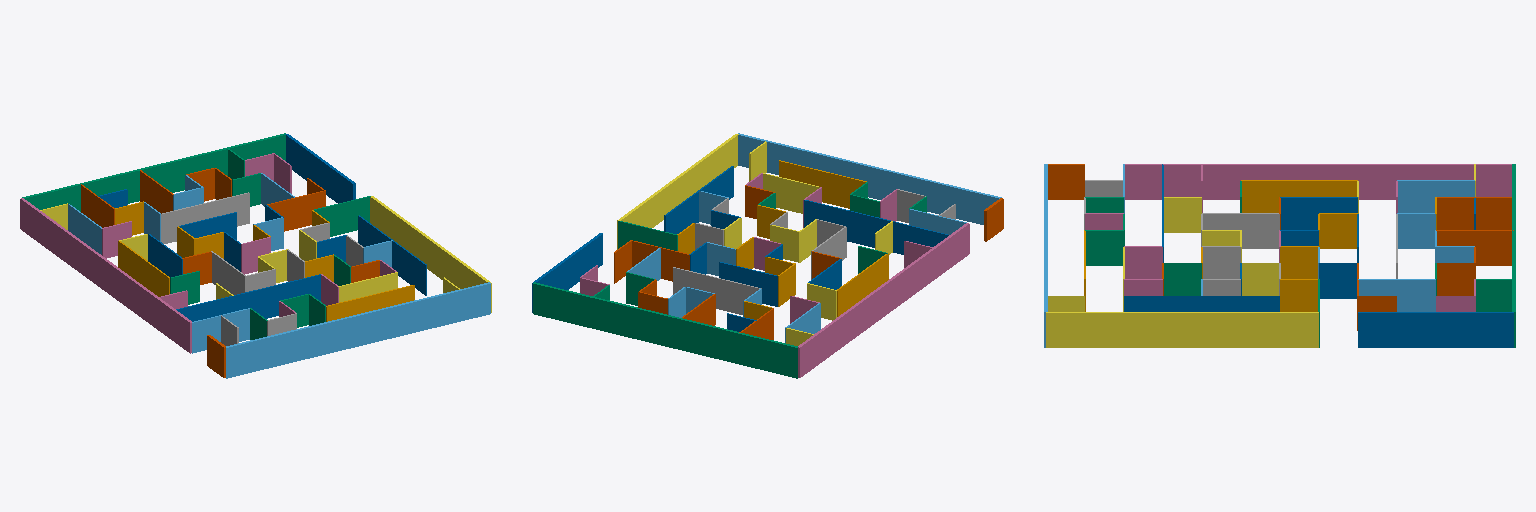
--- What the picture shows (computed from the rendered views, not written in the file) ---
The picture shows the robot from 3 angles, left to right: view 1: azimuth 30°, elevation 25°; view 2: azimuth 150°, elevation 25°; view 3: azimuth 270°, elevation 25°; orthographic projection.
Model maze with 71 links and 70 joints (70 fixed), rooted at maze_link, posed every joint at zero.
Links seen in each view (by area): view 1: wallEast_link, wallSouth2_link, wallWest_link, wallNorth1_link, w40_link, wallNorth2_link, w59_link, w32_link, w36_link, w4_link, w54_link, w37_link (+22 smaller); view 2: wallWest_link, wallSouth2_link, wallEast_link, wallNorth1_link, w40_link, w59_link, w36_link, wallNorth2_link, w32_link, w4_link, w39_link, w56_link (+21 smaller); view 3: wallNorth1_link, wallSouth2_link, wallNorth2_link, w4_link, w32_link, w9_link, w11_link, w29_link, w17_link, w5_link, w8_link, w14_link (+26 smaller).
Boxes of the visible links, x1,y1,x2,y2 form: wallEast_link: (226,282,490,378); wallSouth2_link: (20,198,191,353); wallWest_link: (22,133,285,211); wallNorth1_link: (370,196,491,312); w40_link: (176,274,320,321); wallNorth2_link: (285,134,355,203); w59_link: (161,192,249,243); w32_link: (358,215,426,295); w36_link: (326,285,414,321); w4_link: (118,241,169,296); w54_link: (314,196,370,236); w37_link: (192,308,249,353); wallWest_link: (533,282,797,378); wallSouth2_link: (798,223,969,377); wallEast_link: (738,133,1001,224); wallNorth1_link: (617,134,738,249); w40_link: (804,200,948,254); w59_link: (673,267,761,314); w36_link: (779,160,866,208); wallNorth2_link: (532,233,602,312); w32_link: (664,166,733,233); w4_link: (837,253,888,316); w39_link: (763,173,819,213); w56_link: (719,262,777,306); wallNorth1_link: (1046,312,1318,347); wallSouth2_link: (1125,164,1511,199); wallNorth2_link: (1358,312,1513,347); w4_link: (1241,180,1357,212); w32_link: (1124,296,1279,311); w9_link: (1437,197,1511,229); w11_link: (1202,213,1279,248); w29_link: (1358,279,1435,311); w17_link: (1436,230,1513,265); w5_link: (1397,180,1474,212); w8_link: (1280,197,1357,229); w14_link: (1085,230,1123,265).
Size in the robot's own frame: 9.1 by 12.1 by 1 metres.
Geometry: primitives only (box / cylinder / sphere), no mesh files.

robot.urdf — maze:
<?xml version="1.0" ?>
<!-- =================================================================================== -->
<!-- |    This document was autogenerated by xacro from /local/dev_hpp/src/iai_maps/build-rel/room/maze.xacro | -->
<!-- |    EDITING THIS FILE BY HAND IS NOT RECOMMENDED                                 | -->
<!-- =================================================================================== -->
<robot name="maze" xmlns:controller="http://playerstage.sourceforge.net/gazebo/xmlschema/#controller" xmlns:interface="http://playerstage.sourceforge.net/gazebo/xmlschema/#interface" xmlns:sensor="http://playerstage.sourceforge.net/gazebo/xmlschema/#sensor" xmlns:xacro="http://www.ros.org/wiki/xacro">
  <!-- Little helper macro to define the inertia matrix needed for links. -->
  <!-- Length is along the y-axis. -->
  <!--<macro name="handle" params="name position link clearance">
    <handle name="${name}" clearance="${clearance}">
      <position>${position}</position>
      <link name="${link}" />
    </handle>
  </macro>-->
  <!--  <glasses name="glasses2" parent="room" xyz="-1.1 4.3 0.73" rpy="0 0 0"/>-->
  <link name="maze_link">
    <!--<sphere_inertia radius="0.001" mass="1"/>-->
  </link>
  <joint name="wallEast_joint" type="fixed">
    <origin rpy="0 0 0" xyz="4.5 0 0.5"/>
    <parent link="maze_link"/>
    <child link="wallEast_link"/>
  </joint>
  <link name="wallEast_link">
    <visual>
      <origin rpy="0 0 0" xyz="0 0 0"/>
      <geometry>
        <box size="9 0.1 1"/>
      </geometry>
    </visual>
    <collision>
      <origin rpy="0 0 0" xyz="0 0 0"/>
      <geometry>
        <box size="9 0.1 1"/>
      </geometry>
    </collision>
    <inertial>
      <mass value="1000"/>
      <inertia ixx="1.0" ixy="0.0" ixz="0.0" iyy="1.0" iyz="0.0" izz="1.0"/>
    </inertial>
  </link>
  <gazebo reference="wallEast_link">
    <static>true</static>
    <material>Gazebo/White</material>
  </gazebo>
  <joint name="wallWest_joint" type="fixed">
    <origin rpy="0 0 0" xyz="4.5 12 0.5"/>
    <parent link="maze_link"/>
    <child link="wallWest_link"/>
  </joint>
  <link name="wallWest_link">
    <visual>
      <origin rpy="0 0 0" xyz="0 0 0"/>
      <geometry>
        <box size="9 0.1 1"/>
      </geometry>
    </visual>
    <collision>
      <origin rpy="0 0 0" xyz="0 0 0"/>
      <geometry>
        <box size="9 0.1 1"/>
      </geometry>
    </collision>
    <inertial>
      <mass value="1000"/>
      <inertia ixx="1.0" ixy="0.0" ixz="0.0" iyy="1.0" iyz="0.0" izz="1.0"/>
    </inertial>
  </link>
  <gazebo reference="wallWest_link">
    <static>true</static>
    <material>Gazebo/White</material>
  </gazebo>
  <joint name="wallNorth1_joint" type="fixed">
    <origin rpy="0 0 0" xyz="9 3.5 0.5"/>
    <parent link="maze_link"/>
    <child link="wallNorth1_link"/>
  </joint>
  <link name="wallNorth1_link">
    <visual>
      <origin rpy="0 0 0" xyz="0 0 0"/>
      <geometry>
        <box size="0.1 7 1"/>
      </geometry>
    </visual>
    <collision>
      <origin rpy="0 0 0" xyz="0 0 0"/>
      <geometry>
        <box size="0.1 7 1"/>
      </geometry>
    </collision>
    <inertial>
      <mass value="1000"/>
      <inertia ixx="1.0" ixy="0.0" ixz="0.0" iyy="1.0" iyz="0.0" izz="1.0"/>
    </inertial>
  </link>
  <gazebo reference="wallNorth1_link">
    <static>true</static>
    <material>Gazebo/White</material>
  </gazebo>
  <joint name="wallNorth2_joint" type="fixed">
    <origin rpy="0 0 0" xyz="9 10 0.5"/>
    <parent link="maze_link"/>
    <child link="wallNorth2_link"/>
  </joint>
  <link name="wallNorth2_link">
    <visual>
      <origin rpy="0 0 0" xyz="0 0 0"/>
      <geometry>
        <box size="0.1 4 1"/>
      </geometry>
    </visual>
    <collision>
      <origin rpy="0 0 0" xyz="0 0 0"/>
      <geometry>
        <box size="0.1 4 1"/>
      </geometry>
    </collision>
    <inertial>
      <mass value="1000"/>
      <inertia ixx="1.0" ixy="0.0" ixz="0.0" iyy="1.0" iyz="0.0" izz="1.0"/>
    </inertial>
  </link>
  <gazebo reference="wallNorth2_link">
    <static>true</static>
    <material>Gazebo/White</material>
  </gazebo>
  <joint name="wallSouth1_joint" type="fixed">
    <origin rpy="0 0 0" xyz="0 0.5 0.5"/>
    <parent link="maze_link"/>
    <child link="wallSouth1_link"/>
  </joint>
  <link name="wallSouth1_link">
    <visual>
      <origin rpy="0 0 0" xyz="0 0 0"/>
      <geometry>
        <box size="0.1 1 1"/>
      </geometry>
    </visual>
    <collision>
      <origin rpy="0 0 0" xyz="0 0 0"/>
      <geometry>
        <box size="0.1 1 1"/>
      </geometry>
    </collision>
    <inertial>
      <mass value="1000"/>
      <inertia ixx="1.0" ixy="0.0" ixz="0.0" iyy="1.0" iyz="0.0" izz="1.0"/>
    </inertial>
  </link>
  <gazebo reference="wallSouth1_link">
    <static>true</static>
    <material>Gazebo/White</material>
  </gazebo>
  <joint name="wallSouth2_joint" type="fixed">
    <origin rpy="0 0 0" xyz="0 7 0.5"/>
    <parent link="maze_link"/>
    <child link="wallSouth2_link"/>
  </joint>
  <link name="wallSouth2_link">
    <visual>
      <origin rpy="0 0 0" xyz="0 0 0"/>
      <geometry>
        <box size="0.1 10 1"/>
      </geometry>
    </visual>
    <collision>
      <origin rpy="0 0 0" xyz="0 0 0"/>
      <geometry>
        <box size="0.1 10 1"/>
      </geometry>
    </collision>
    <inertial>
      <mass value="1000"/>
      <inertia ixx="1.0" ixy="0.0" ixz="0.0" iyy="1.0" iyz="0.0" izz="1.0"/>
    </inertial>
  </link>
  <gazebo reference="wallSouth2_link">
    <static>true</static>
    <material>Gazebo/White</material>
  </gazebo>
  <!-- inside horizontal (south to north, east to west) -->
  <joint name="w3_joint" type="fixed">
    <origin rpy="0 0 0" xyz="1 1.5 0.5"/>
    <parent link="maze_link"/>
    <child link="w3_link"/>
  </joint>
  <link name="w3_link">
    <visual>
      <origin rpy="0 0 0" xyz="0 0 0"/>
      <geometry>
        <box size="0.05 1 1"/>
      </geometry>
    </visual>
    <collision>
      <origin rpy="0 0 0" xyz="0 0 0"/>
      <geometry>
        <box size="0.05 1 1"/>
      </geometry>
    </collision>
    <inertial>
      <mass value="1000"/>
      <inertia ixx="1.0" ixy="0.0" ixz="0.0" iyy="1.0" iyz="0.0" izz="1.0"/>
    </inertial>
  </link>
  <gazebo reference="w3_link">
    <static>true</static>
    <material>Gazebo/White</material>
  </gazebo>
  <joint name="w4_joint" type="fixed">
    <origin rpy="0 0 0" xyz="1 6.5 0.5"/>
    <parent link="maze_link"/>
    <child link="w4_link"/>
  </joint>
  <link name="w4_link">
    <visual>
      <origin rpy="0 0 0" xyz="0 0 0"/>
      <geometry>
        <box size="0.05 3 1"/>
      </geometry>
    </visual>
    <collision>
      <origin rpy="0 0 0" xyz="0 0 0"/>
      <geometry>
        <box size="0.05 3 1"/>
      </geometry>
    </collision>
    <inertial>
      <mass value="1000"/>
      <inertia ixx="1.0" ixy="0.0" ixz="0.0" iyy="1.0" iyz="0.0" izz="1.0"/>
    </inertial>
  </link>
  <gazebo reference="w4_link">
    <static>true</static>
    <material>Gazebo/White</material>
  </gazebo>
  <joint name="w5_joint" type="fixed">
    <origin rpy="0 0 0" xyz="1 10 0.5"/>
    <parent link="maze_link"/>
    <child link="w5_link"/>
  </joint>
  <link name="w5_link">
    <visual>
      <origin rpy="0 0 0" xyz="0 0 0"/>
      <geometry>
        <box size="0.05 2 1"/>
      </geometry>
    </visual>
    <collision>
      <origin rpy="0 0 0" xyz="0 0 0"/>
      <geometry>
        <box size="0.05 2 1"/>
      </geometry>
    </collision>
    <inertial>
      <mass value="1000"/>
      <inertia ixx="1.0" ixy="0.0" ixz="0.0" iyy="1.0" iyz="0.0" izz="1.0"/>
    </inertial>
  </link>
  <gazebo reference="w5_link">
    <static>true</static>
    <material>Gazebo/White</material>
  </gazebo>
  <joint name="w6_joint" type="fixed">
    <origin rpy="0 0 0" xyz="2 1.5 0.5"/>
    <parent link="maze_link"/>
    <child link="w6_link"/>
  </joint>
  <link name="w6_link">
    <visual>
      <origin rpy="0 0 0" xyz="0 0 0"/>
      <geometry>
        <box size="0.05 1 1"/>
      </geometry>
    </visual>
    <collision>
      <origin rpy="0 0 0" xyz="0 0 0"/>
      <geometry>
        <box size="0.05 1 1"/>
      </geometry>
    </collision>
    <inertial>
      <mass value="1000"/>
      <inertia ixx="1.0" ixy="0.0" ixz="0.0" iyy="1.0" iyz="0.0" izz="1.0"/>
    </inertial>
  </link>
  <gazebo reference="w6_link">
    <static>true</static>
    <material>Gazebo/White</material>
  </gazebo>
  <joint name="w7_joint" type="fixed">
    <origin rpy="0 0 0" xyz="2 3.5 0.5"/>
    <parent link="maze_link"/>
    <child link="w7_link"/>
  </joint>
  <link name="w7_link">
    <visual>
      <origin rpy="0 0 0" xyz="0 0 0"/>
      <geometry>
        <box size="0.05 1 1"/>
      </geometry>
    </visual>
    <collision>
      <origin rpy="0 0 0" xyz="0 0 0"/>
      <geometry>
        <box size="0.05 1 1"/>
      </geometry>
    </collision>
    <inertial>
      <mass value="1000"/>
      <inertia ixx="1.0" ixy="0.0" ixz="0.0" iyy="1.0" iyz="0.0" izz="1.0"/>
    </inertial>
  </link>
  <gazebo reference="w7_link">
    <static>true</static>
    <material>Gazebo/White</material>
  </gazebo>
  <joint name="w8_joint" type="fixed">
    <origin rpy="0 0 0" xyz="2 7 0.5"/>
    <parent link="maze_link"/>
    <child link="w8_link"/>
  </joint>
  <link name="w8_link">
    <visual>
      <origin rpy="0 0 0" xyz="0 0 0"/>
      <geometry>
        <box size="0.05 2 1"/>
      </geometry>
    </visual>
    <collision>
      <origin rpy="0 0 0" xyz="0 0 0"/>
      <geometry>
        <box size="0.05 2 1"/>
      </geometry>
    </collision>
    <inertial>
      <mass value="1000"/>
      <inertia ixx="1.0" ixy="0.0" ixz="0.0" iyy="1.0" iyz="0.0" izz="1.0"/>
    </inertial>
  </link>
  <gazebo reference="w8_link">
    <static>true</static>
    <material>Gazebo/White</material>
  </gazebo>
  <joint name="w9_joint" type="fixed">
    <origin rpy="0 0 0" xyz="2 11 0.5"/>
    <parent link="maze_link"/>
    <child link="w9_link"/>
  </joint>
  <link name="w9_link">
    <visual>
      <origin rpy="0 0 0" xyz="0 0 0"/>
      <geometry>
        <box size="0.05 2 1"/>
      </geometry>
    </visual>
    <collision>
      <origin rpy="0 0 0" xyz="0 0 0"/>
      <geometry>
        <box size="0.05 2 1"/>
      </geometry>
    </collision>
    <inertial>
      <mass value="1000"/>
      <inertia ixx="1.0" ixy="0.0" ixz="0.0" iyy="1.0" iyz="0.0" izz="1.0"/>
    </inertial>
  </link>
  <gazebo reference="w9_link">
    <static>true</static>
    <material>Gazebo/White</material>
  </gazebo>
  <joint name="w10_joint" type="fixed">
    <origin rpy="0 0 0" xyz="3 1.5 0.5"/>
    <parent link="maze_link"/>
    <child link="w10_link"/>
  </joint>
  <link name="w10_link">
    <visual>
      <origin rpy="0 0 0" xyz="0 0 0"/>
      <geometry>
        <box size="0.05 1 1"/>
      </geometry>
    </visual>
    <collision>
      <origin rpy="0 0 0" xyz="0 0 0"/>
      <geometry>
        <box size="0.05 1 1"/>
      </geometry>
    </collision>
    <inertial>
      <mass value="1000"/>
      <inertia ixx="1.0" ixy="0.0" ixz="0.0" iyy="1.0" iyz="0.0" izz="1.0"/>
    </inertial>
  </link>
  <gazebo reference="w10_link">
    <static>true</static>
    <material>Gazebo/White</material>
  </gazebo>
  <joint name="w11_joint" type="fixed">
    <origin rpy="0 0 0" xyz="3 5 0.5"/>
    <parent link="maze_link"/>
    <child link="w11_link"/>
  </joint>
  <link name="w11_link">
    <visual>
      <origin rpy="0 0 0" xyz="0 0 0"/>
      <geometry>
        <box size="0.05 2 1"/>
      </geometry>
    </visual>
    <collision>
      <origin rpy="0 0 0" xyz="0 0 0"/>
      <geometry>
        <box size="0.05 2 1"/>
      </geometry>
    </collision>
    <inertial>
      <mass value="1000"/>
      <inertia ixx="1.0" ixy="0.0" ixz="0.0" iyy="1.0" iyz="0.0" izz="1.0"/>
    </inertial>
  </link>
  <gazebo reference="w11_link">
    <static>true</static>
    <material>Gazebo/White</material>
  </gazebo>
  <joint name="w12_joint" type="fixed">
    <origin rpy="0 0 0" xyz="3 7.5 0.5"/>
    <parent link="maze_link"/>
    <child link="w12_link"/>
  </joint>
  <link name="w12_link">
    <visual>
      <origin rpy="0 0 0" xyz="0 0 0"/>
      <geometry>
        <box size="0.05 1 1"/>
      </geometry>
    </visual>
    <collision>
      <origin rpy="0 0 0" xyz="0 0 0"/>
      <geometry>
        <box size="0.05 1 1"/>
      </geometry>
    </collision>
    <inertial>
      <mass value="1000"/>
      <inertia ixx="1.0" ixy="0.0" ixz="0.0" iyy="1.0" iyz="0.0" izz="1.0"/>
    </inertial>
  </link>
  <gazebo reference="w12_link">
    <static>true</static>
    <material>Gazebo/White</material>
  </gazebo>
  <joint name="w13_joint" type="fixed">
    <origin rpy="0 0 0" xyz="3 9.5 0.5"/>
    <parent link="maze_link"/>
    <child link="w13_link"/>
  </joint>
  <link name="w13_link">
    <visual>
      <origin rpy="0 0 0" xyz="0 0 0"/>
      <geometry>
        <box size="0.05 1 1"/>
      </geometry>
    </visual>
    <collision>
      <origin rpy="0 0 0" xyz="0 0 0"/>
      <geometry>
        <box size="0.05 1 1"/>
      </geometry>
    </collision>
    <inertial>
      <mass value="1000"/>
      <inertia ixx="1.0" ixy="0.0" ixz="0.0" iyy="1.0" iyz="0.0" izz="1.0"/>
    </inertial>
  </link>
  <gazebo reference="w13_link">
    <static>true</static>
    <material>Gazebo/White</material>
  </gazebo>
  <joint name="w14_joint" type="fixed">
    <origin rpy="0 0 0" xyz="4 1.5 0.5"/>
    <parent link="maze_link"/>
    <child link="w14_link"/>
  </joint>
  <link name="w14_link">
    <visual>
      <origin rpy="0 0 0" xyz="0 0 0"/>
      <geometry>
        <box size="0.05 1 1"/>
      </geometry>
    </visual>
    <collision>
      <origin rpy="0 0 0" xyz="0 0 0"/>
      <geometry>
        <box size="0.05 1 1"/>
      </geometry>
    </collision>
    <inertial>
      <mass value="1000"/>
      <inertia ixx="1.0" ixy="0.0" ixz="0.0" iyy="1.0" iyz="0.0" izz="1.0"/>
    </inertial>
  </link>
  <gazebo reference="w14_link">
    <static>true</static>
    <material>Gazebo/White</material>
  </gazebo>
  <joint name="w15_joint" type="fixed">
    <origin rpy="0 0 0" xyz="4 4.5 0.5"/>
    <parent link="maze_link"/>
    <child link="w15_link"/>
  </joint>
  <link name="w15_link">
    <visual>
      <origin rpy="0 0 0" xyz="0 0 0"/>
      <geometry>
        <box size="0.05 1 1"/>
      </geometry>
    </visual>
    <collision>
      <origin rpy="0 0 0" xyz="0 0 0"/>
      <geometry>
        <box size="0.05 1 1"/>
      </geometry>
    </collision>
    <inertial>
      <mass value="1000"/>
      <inertia ixx="1.0" ixy="0.0" ixz="0.0" iyy="1.0" iyz="0.0" izz="1.0"/>
    </inertial>
  </link>
  <gazebo reference="w15_link">
    <static>true</static>
    <material>Gazebo/White</material>
  </gazebo>
  <joint name="w16_joint" type="fixed">
    <origin rpy="0 0 0" xyz="4 6.5 0.5"/>
    <parent link="maze_link"/>
    <child link="w16_link"/>
  </joint>
  <link name="w16_link">
    <visual>
      <origin rpy="0 0 0" xyz="0 0 0"/>
      <geometry>
        <box size="0.05 1 1"/>
      </geometry>
    </visual>
    <collision>
      <origin rpy="0 0 0" xyz="0 0 0"/>
      <geometry>
        <box size="0.05 1 1"/>
      </geometry>
    </collision>
    <inertial>
      <mass value="1000"/>
      <inertia ixx="1.0" ixy="0.0" ixz="0.0" iyy="1.0" iyz="0.0" izz="1.0"/>
    </inertial>
  </link>
  <gazebo reference="w16_link">
    <static>true</static>
    <material>Gazebo/White</material>
  </gazebo>
  <joint name="w17_joint" type="fixed">
    <origin rpy="0 0 0" xyz="4 11 0.5"/>
    <parent link="maze_link"/>
    <child link="w17_link"/>
  </joint>
  <link name="w17_link">
    <visual>
      <origin rpy="0 0 0" xyz="0 0 0"/>
      <geometry>
        <box size="0.05 2 1"/>
      </geometry>
    </visual>
    <collision>
      <origin rpy="0 0 0" xyz="0 0 0"/>
      <geometry>
        <box size="0.05 2 1"/>
      </geometry>
    </collision>
    <inertial>
      <mass value="1000"/>
      <inertia ixx="1.0" ixy="0.0" ixz="0.0" iyy="1.0" iyz="0.0" izz="1.0"/>
    </inertial>
  </link>
  <gazebo reference="w17_link">
    <static>true</static>
    <material>Gazebo/White</material>
  </gazebo>
  <joint name="w18_joint" type="fixed">
    <origin rpy="0 0 0" xyz="5 2.5 0.5"/>
    <parent link="maze_link"/>
    <child link="w18_link"/>
  </joint>
  <link name="w18_link">
    <visual>
      <origin rpy="0 0 0" xyz="0 0 0"/>
      <geometry>
        <box size="0.05 1 1"/>
      </geometry>
    </visual>
    <collision>
      <origin rpy="0 0 0" xyz="0 0 0"/>
      <geometry>
        <box size="0.05 1 1"/>
      </geometry>
    </collision>
    <inertial>
      <mass value="1000"/>
      <inertia ixx="1.0" ixy="0.0" ixz="0.0" iyy="1.0" iyz="0.0" izz="1.0"/>
    </inertial>
  </link>
  <gazebo reference="w18_link">
    <static>true</static>
    <material>Gazebo/White</material>
  </gazebo>
  <joint name="w19_joint" type="fixed">
    <origin rpy="0 0 0" xyz="5 4.5 0.5"/>
    <parent link="maze_link"/>
    <child link="w19_link"/>
  </joint>
  <link name="w19_link">
    <visual>
      <origin rpy="0 0 0" xyz="0 0 0"/>
      <geometry>
        <box size="0.05 1 1"/>
      </geometry>
    </visual>
    <collision>
      <origin rpy="0 0 0" xyz="0 0 0"/>
      <geometry>
        <box size="0.05 1 1"/>
      </geometry>
    </collision>
    <inertial>
      <mass value="1000"/>
      <inertia ixx="1.0" ixy="0.0" ixz="0.0" iyy="1.0" iyz="0.0" izz="1.0"/>
    </inertial>
  </link>
  <gazebo reference="w19_link">
    <static>true</static>
    <material>Gazebo/White</material>
  </gazebo>
  <joint name="w20_joint" type="fixed">
    <origin rpy="0 0 0" xyz="5 6.5 0.5"/>
    <parent link="maze_link"/>
    <child link="w20_link"/>
  </joint>
  <link name="w20_link">
    <visual>
      <origin rpy="0 0 0" xyz="0 0 0"/>
      <geometry>
        <box size="0.05 1 1"/>
      </geometry>
    </visual>
    <collision>
      <origin rpy="0 0 0" xyz="0 0 0"/>
      <geometry>
        <box size="0.05 1 1"/>
      </geometry>
    </collision>
    <inertial>
      <mass value="1000"/>
      <inertia ixx="1.0" ixy="0.0" ixz="0.0" iyy="1.0" iyz="0.0" izz="1.0"/>
    </inertial>
  </link>
  <gazebo reference="w20_link">
    <static>true</static>
    <material>Gazebo/White</material>
  </gazebo>
  <joint name="w21_joint" type="fixed">
    <origin rpy="0 0 0" xyz="5 10.5 0.5"/>
    <parent link="maze_link"/>
    <child link="w21_link"/>
  </joint>
  <link name="w21_link">
    <visual>
      <origin rpy="0 0 0" xyz="0 0 0"/>
      <geometry>
        <box size="0.05 1 1"/>
      </geometry>
    </visual>
    <collision>
      <origin rpy="0 0 0" xyz="0 0 0"/>
      <geometry>
        <box size="0.05 1 1"/>
      </geometry>
    </collision>
    <inertial>
      <mass value="1000"/>
      <inertia ixx="1.0" ixy="0.0" ixz="0.0" iyy="1.0" iyz="0.0" izz="1.0"/>
    </inertial>
  </link>
  <gazebo reference="w21_link">
    <static>true</static>
    <material>Gazebo/White</material>
  </gazebo>
  <joint name="w22_joint" type="fixed">
    <origin rpy="0 0 0" xyz="6 3.5 0.5"/>
    <parent link="maze_link"/>
    <child link="w22_link"/>
  </joint>
  <link name="w22_link">
    <visual>
      <origin rpy="0 0 0" xyz="0 0 0"/>
      <geometry>
        <box size="0.05 1 1"/>
      </geometry>
    </visual>
    <collision>
      <origin rpy="0 0 0" xyz="0 0 0"/>
      <geometry>
        <box size="0.05 1 1"/>
      </geometry>
    </collision>
    <inertial>
      <mass value="1000"/>
      <inertia ixx="1.0" ixy="0.0" ixz="0.0" iyy="1.0" iyz="0.0" izz="1.0"/>
    </inertial>
  </link>
  <gazebo reference="w22_link">
    <static>true</static>
    <material>Gazebo/White</material>
  </gazebo>
  <joint name="w23_joint" type="fixed">
    <origin rpy="0 0 0" xyz="6 5.5 0.5"/>
    <parent link="maze_link"/>
    <child link="w23_link"/>
  </joint>
  <link name="w23_link">
    <visual>
      <origin rpy="0 0 0" xyz="0 0 0"/>
      <geometry>
        <box size="0.05 1 1"/>
      </geometry>
    </visual>
    <collision>
      <origin rpy="0 0 0" xyz="0 0 0"/>
      <geometry>
        <box size="0.05 1 1"/>
      </geometry>
    </collision>
    <inertial>
      <mass value="1000"/>
      <inertia ixx="1.0" ixy="0.0" ixz="0.0" iyy="1.0" iyz="0.0" izz="1.0"/>
    </inertial>
  </link>
  <gazebo reference="w23_link">
    <static>true</static>
    <material>Gazebo/White</material>
  </gazebo>
  <joint name="w24_joint" type="fixed">
    <origin rpy="0 0 0" xyz="6 7.5 0.5"/>
    <parent link="maze_link"/>
    <child link="w24_link"/>
  </joint>
  <link name="w24_link">
    <visual>
      <origin rpy="0 0 0" xyz="0 0 0"/>
      <geometry>
        <box size="0.05 1 1"/>
      </geometry>
    </visual>
    <collision>
      <origin rpy="0 0 0" xyz="0 0 0"/>
      <geometry>
        <box size="0.05 1 1"/>
      </geometry>
    </collision>
    <inertial>
      <mass value="1000"/>
      <inertia ixx="1.0" ixy="0.0" ixz="0.0" iyy="1.0" iyz="0.0" izz="1.0"/>
    </inertial>
  </link>
  <gazebo reference="w24_link">
    <static>true</static>
    <material>Gazebo/White</material>
  </gazebo>
  <joint name="w25_joint" type="fixed">
    <origin rpy="0 0 0" xyz="6 10.5 0.5"/>
    <parent link="maze_link"/>
    <child link="w25_link"/>
  </joint>
  <link name="w25_link">
    <visual>
      <origin rpy="0 0 0" xyz="0 0 0"/>
      <geometry>
        <box size="0.05 1 1"/>
      </geometry>
    </visual>
    <collision>
      <origin rpy="0 0 0" xyz="0 0 0"/>
      <geometry>
        <box size="0.05 1 1"/>
      </geometry>
    </collision>
    <inertial>
      <mass value="1000"/>
      <inertia ixx="1.0" ixy="0.0" ixz="0.0" iyy="1.0" iyz="0.0" izz="1.0"/>
    </inertial>
  </link>
  <gazebo reference="w25_link">
    <static>true</static>
    <material>Gazebo/White</material>
  </gazebo>
  <joint name="w26_joint" type="fixed">
    <origin rpy="0 0 0" xyz="7 2.5 0.5"/>
    <parent link="maze_link"/>
    <child link="w26_link"/>
  </joint>
  <link name="w26_link">
    <visual>
      <origin rpy="0 0 0" xyz="0 0 0"/>
      <geometry>
        <box size="0.05 1 1"/>
      </geometry>
    </visual>
    <collision>
      <origin rpy="0 0 0" xyz="0 0 0"/>
      <geometry>
        <box size="0.05 1 1"/>
      </geometry>
    </collision>
    <inertial>
      <mass value="1000"/>
      <inertia ixx="1.0" ixy="0.0" ixz="0.0" iyy="1.0" iyz="0.0" izz="1.0"/>
    </inertial>
  </link>
  <gazebo reference="w26_link">
    <static>true</static>
    <material>Gazebo/White</material>
  </gazebo>
  <joint name="w27_joint" type="fixed">
    <origin rpy="0 0 0" xyz="7 4.5 0.5"/>
    <parent link="maze_link"/>
    <child link="w27_link"/>
  </joint>
  <link name="w27_link">
    <visual>
      <origin rpy="0 0 0" xyz="0 0 0"/>
      <geometry>
        <box size="0.05 1 1"/>
      </geometry>
    </visual>
    <collision>
      <origin rpy="0 0 0" xyz="0 0 0"/>
      <geometry>
        <box size="0.05 1 1"/>
      </geometry>
    </collision>
    <inertial>
      <mass value="1000"/>
      <inertia ixx="1.0" ixy="0.0" ixz="0.0" iyy="1.0" iyz="0.0" izz="1.0"/>
    </inertial>
  </link>
  <gazebo reference="w27_link">
    <static>true</static>
    <material>Gazebo/White</material>
  </gazebo>
  <joint name="w28_joint" type="fixed">
    <origin rpy="0 0 0" xyz="7 6.5 0.5"/>
    <parent link="maze_link"/>
    <child link="w28_link"/>
  </joint>
  <link name="w28_link">
    <visual>
      <origin rpy="0 0 0" xyz="0 0 0"/>
      <geometry>
        <box size="0.05 1 1"/>
      </geometry>
    </visual>
    <collision>
      <origin rpy="0 0 0" xyz="0 0 0"/>
      <geometry>
        <box size="0.05 1 1"/>
      </geometry>
    </collision>
    <inertial>
      <mass value="1000"/>
      <inertia ixx="1.0" ixy="0.0" ixz="0.0" iyy="1.0" iyz="0.0" izz="1.0"/>
    </inertial>
  </link>
  <gazebo reference="w28_link">
    <static>true</static>
    <material>Gazebo/White</material>
  </gazebo>
  <joint name="w29_joint" type="fixed">
    <origin rpy="0 0 0" xyz="7 9 0.5"/>
    <parent link="maze_link"/>
    <child link="w29_link"/>
  </joint>
  <link name="w29_link">
    <visual>
      <origin rpy="0 0 0" xyz="0 0 0"/>
      <geometry>
        <box size="0.05 2 1"/>
      </geometry>
    </visual>
    <collision>
      <origin rpy="0 0 0" xyz="0 0 0"/>
      <geometry>
        <box size="0.05 2 1"/>
      </geometry>
    </collision>
    <inertial>
      <mass value="1000"/>
      <inertia ixx="1.0" ixy="0.0" ixz="0.0" iyy="1.0" iyz="0.0" izz="1.0"/>
    </inertial>
  </link>
  <gazebo reference="w29_link">
    <static>true</static>
    <material>Gazebo/White</material>
  </gazebo>
  <joint name="w30_joint" type="fixed">
    <origin rpy="0 0 0" xyz="7 11.5 0.5"/>
    <parent link="maze_link"/>
    <child link="w30_link"/>
  </joint>
  <link name="w30_link">
    <visual>
      <origin rpy="0 0 0" xyz="0 0 0"/>
      <geometry>
        <box size="0.05 1 1"/>
      </geometry>
    </visual>
    <collision>
      <origin rpy="0 0 0" xyz="0 0 0"/>
      <geometry>
        <box size="0.05 1 1"/>
      </geometry>
    </collision>
    <inertial>
      <mass value="1000"/>
      <inertia ixx="1.0" ixy="0.0" ixz="0.0" iyy="1.0" iyz="0.0" izz="1.0"/>
    </inertial>
  </link>
  <gazebo reference="w30_link">
    <static>true</static>
    <material>Gazebo/White</material>
  </gazebo>
  <joint name="w31_joint" type="fixed">
    <origin rpy="0 0 0" xyz="8 0.5 0.5"/>
    <parent link="maze_link"/>
    <child link="w31_link"/>
  </joint>
  <link name="w31_link">
    <visual>
      <origin rpy="0 0 0" xyz="0 0 0"/>
      <geometry>
        <box size="0.05 1 1"/>
      </geometry>
    </visual>
    <collision>
      <origin rpy="0 0 0" xyz="0 0 0"/>
      <geometry>
        <box size="0.05 1 1"/>
      </geometry>
    </collision>
    <inertial>
      <mass value="1000"/>
      <inertia ixx="1.0" ixy="0.0" ixz="0.0" iyy="1.0" iyz="0.0" izz="1.0"/>
    </inertial>
  </link>
  <gazebo reference="w31_link">
    <static>true</static>
    <material>Gazebo/White</material>
  </gazebo>
  <joint name="w32_joint" type="fixed">
    <origin rpy="0 0 0" xyz="8 4 0.5"/>
    <parent link="maze_link"/>
    <child link="w32_link"/>
  </joint>
  <link name="w32_link">
    <visual>
      <origin rpy="0 0 0" xyz="0 0 0"/>
      <geometry>
        <box size="0.05 4 1"/>
      </geometry>
    </visual>
    <collision>
      <origin rpy="0 0 0" xyz="0 0 0"/>
      <geometry>
        <box size="0.05 4 1"/>
      </geometry>
    </collision>
    <inertial>
      <mass value="1000"/>
      <inertia ixx="1.0" ixy="0.0" ixz="0.0" iyy="1.0" iyz="0.0" izz="1.0"/>
    </inertial>
  </link>
  <gazebo reference="w32_link">
    <static>true</static>
    <material>Gazebo/White</material>
  </gazebo>
  <joint name="w33_joint" type="fixed">
    <origin rpy="0 0 0" xyz="8 8.5 0.5"/>
    <parent link="maze_link"/>
    <child link="w33_link"/>
  </joint>
  <link name="w33_link">
    <visual>
      <origin rpy="0 0 0" xyz="0 0 0"/>
      <geometry>
        <box size="0.05 1 1"/>
      </geometry>
    </visual>
    <collision>
      <origin rpy="0 0 0" xyz="0 0 0"/>
      <geometry>
        <box size="0.05 1 1"/>
      </geometry>
    </collision>
    <inertial>
      <mass value="1000"/>
      <inertia ixx="1.0" ixy="0.0" ixz="0.0" iyy="1.0" iyz="0.0" izz="1.0"/>
    </inertial>
  </link>
  <gazebo reference="w33_link">
    <static>true</static>
    <material>Gazebo/White</material>
  </gazebo>
  <joint name="w34_joint" type="fixed">
    <origin rpy="0 0 0" xyz="8 10.5 0.5"/>
    <parent link="maze_link"/>
    <child link="w34_link"/>
  </joint>
  <link name="w34_link">
    <visual>
      <origin rpy="0 0 0" xyz="0 0 0"/>
      <geometry>
        <box size="0.05 1 1"/>
      </geometry>
    </visual>
    <collision>
      <origin rpy="0 0 0" xyz="0 0 0"/>
      <geometry>
        <box size="0.05 1 1"/>
      </geometry>
    </collision>
    <inertial>
      <mass value="1000"/>
      <inertia ixx="1.0" ixy="0.0" ixz="0.0" iyy="1.0" iyz="0.0" izz="1.0"/>
    </inertial>
  </link>
  <gazebo reference="w34_link">
    <static>true</static>
    <material>Gazebo/White</material>
  </gazebo>
  <joint name="w35_joint" type="fixed">
    <origin rpy="0 0 0" xyz="2.5 1 0.5"/>
    <parent link="maze_link"/>
    <child link="w35_link"/>
  </joint>
  <link name="w35_link">
    <visual>
      <origin rpy="0 0 0" xyz="0 0 0"/>
      <geometry>
        <box size="1 0.05 1"/>
      </geometry>
    </visual>
    <collision>
      <origin rpy="0 0 0" xyz="0 0 0"/>
      <geometry>
        <box size="1 0.05 1"/>
      </geometry>
    </collision>
    <inertial>
      <mass value="1000"/>
      <inertia ixx="1.0" ixy="0.0" ixz="0.0" iyy="1.0" iyz="0.0" izz="1.0"/>
    </inertial>
  </link>
  <gazebo reference="w35_link">
    <static>true</static>
    <material>Gazebo/White</material>
  </gazebo>
  <joint name="w36_joint" type="fixed">
    <origin rpy="0 0 0" xyz="5.5 1 0.5"/>
    <parent link="maze_link"/>
    <child link="w36_link"/>
  </joint>
  <link name="w36_link">
    <visual>
      <origin rpy="0 0 0" xyz="0 0 0"/>
      <geometry>
        <box size="3 0.05 1"/>
      </geometry>
    </visual>
    <collision>
      <origin rpy="0 0 0" xyz="0 0 0"/>
      <geometry>
        <box size="3 0.05 1"/>
      </geometry>
    </collision>
    <inertial>
      <mass value="1000"/>
      <inertia ixx="1.0" ixy="0.0" ixz="0.0" iyy="1.0" iyz="0.0" izz="1.0"/>
    </inertial>
  </link>
  <gazebo reference="w36_link">
    <static>true</static>
    <material>Gazebo/White</material>
  </gazebo>
  <joint name="w37_joint" type="fixed">
    <origin rpy="0 0 0" xyz="1 2 0.5"/>
    <parent link="maze_link"/>
    <child link="w37_link"/>
  </joint>
  <link name="w37_link">
    <visual>
      <origin rpy="0 0 0" xyz="0 0 0"/>
      <geometry>
        <box size="2 0.05 1"/>
      </geometry>
    </visual>
    <collision>
      <origin rpy="0 0 0" xyz="0 0 0"/>
      <geometry>
        <box size="2 0.05 1"/>
      </geometry>
    </collision>
    <inertial>
      <mass value="1000"/>
      <inertia ixx="1.0" ixy="0.0" ixz="0.0" iyy="1.0" iyz="0.0" izz="1.0"/>
    </inertial>
  </link>
  <gazebo reference="w37_link">
    <static>true</static>
    <material>Gazebo/White</material>
  </gazebo>
  <joint name="w38_joint" type="fixed">
    <origin rpy="0 0 0" xyz="3.5 2 0.5"/>
    <parent link="maze_link"/>
    <child link="w38_link"/>
  </joint>
  <link name="w38_link">
    <visual>
      <origin rpy="0 0 0" xyz="0 0 0"/>
      <geometry>
        <box size="1 0.05 1"/>
      </geometry>
    </visual>
    <collision>
      <origin rpy="0 0 0" xyz="0 0 0"/>
      <geometry>
        <box size="1 0.05 1"/>
      </geometry>
    </collision>
    <inertial>
      <mass value="1000"/>
      <inertia ixx="1.0" ixy="0.0" ixz="0.0" iyy="1.0" iyz="0.0" izz="1.0"/>
    </inertial>
  </link>
  <gazebo reference="w38_link">
    <static>true</static>
    <material>Gazebo/White</material>
  </gazebo>
  <joint name="w39_joint" type="fixed">
    <origin rpy="0 0 0" xyz="6 2 0.5"/>
    <parent link="maze_link"/>
    <child link="w39_link"/>
  </joint>
  <link name="w39_link">
    <visual>
      <origin rpy="0 0 0" xyz="0 0 0"/>
      <geometry>
        <box size="2 0.05 1"/>
      </geometry>
    </visual>
    <collision>
      <origin rpy="0 0 0" xyz="0 0 0"/>
      <geometry>
        <box size="2 0.05 1"/>
      </geometry>
    </collision>
    <inertial>
      <mass value="1000"/>
      <inertia ixx="1.0" ixy="0.0" ixz="0.0" iyy="1.0" iyz="0.0" izz="1.0"/>
    </inertial>
  </link>
  <gazebo reference="w39_link">
    <static>true</static>
    <material>Gazebo/White</material>
  </gazebo>
  <joint name="w40_joint" type="fixed">
    <origin rpy="0 0 0" xyz="2.5 3 0.5"/>
    <parent link="maze_link"/>
    <child link="w40_link"/>
  </joint>
  <link name="w40_link">
    <visual>
      <origin rpy="0 0 0" xyz="0 0 0"/>
      <geometry>
        <box size="5 0.05 1"/>
      </geometry>
    </visual>
    <collision>
      <origin rpy="0 0 0" xyz="0 0 0"/>
      <geometry>
        <box size="5 0.05 1"/>
      </geometry>
    </collision>
    <inertial>
      <mass value="1000"/>
      <inertia ixx="1.0" ixy="0.0" ixz="0.0" iyy="1.0" iyz="0.0" izz="1.0"/>
    </inertial>
  </link>
  <gazebo reference="w40_link">
    <static>true</static>
    <material>Gazebo/White</material>
  </gazebo>
  <joint name="w41_joint" type="fixed">
    <origin rpy="0 0 0" xyz="6.5 3 0.5"/>
    <parent link="maze_link"/>
    <child link="w41_link"/>
  </joint>
  <link name="w41_link">
    <visual>
      <origin rpy="0 0 0" xyz="0 0 0"/>
      <geometry>
        <box size="1 0.05 1"/>
      </geometry>
    </visual>
    <collision>
      <origin rpy="0 0 0" xyz="0 0 0"/>
      <geometry>
        <box size="1 0.05 1"/>
      </geometry>
    </collision>
    <inertial>
      <mass value="1000"/>
      <inertia ixx="1.0" ixy="0.0" ixz="0.0" iyy="1.0" iyz="0.0" izz="1.0"/>
    </inertial>
  </link>
  <gazebo reference="w41_link">
    <static>true</static>
    <material>Gazebo/White</material>
  </gazebo>
  <joint name="w42_joint" type="fixed">
    <origin rpy="0 0 0" xyz="0.5 4 0.5"/>
    <parent link="maze_link"/>
    <child link="w42_link"/>
  </joint>
  <link name="w42_link">
    <visual>
      <origin rpy="0 0 0" xyz="0 0 0"/>
      <geometry>
        <box size="1 0.05 1"/>
      </geometry>
    </visual>
    <collision>
      <origin rpy="0 0 0" xyz="0 0 0"/>
      <geometry>
        <box size="1 0.05 1"/>
      </geometry>
    </collision>
    <inertial>
      <mass value="1000"/>
      <inertia ixx="1.0" ixy="0.0" ixz="0.0" iyy="1.0" iyz="0.0" izz="1.0"/>
    </inertial>
  </link>
  <gazebo reference="w42_link">
    <static>true</static>
    <material>Gazebo/White</material>
  </gazebo>
  <joint name="w43_joint" type="fixed">
    <origin rpy="0 0 0" xyz="3.5 4 0.5"/>
    <parent link="maze_link"/>
    <child link="w43_link"/>
  </joint>
  <link name="w43_link">
    <visual>
      <origin rpy="0 0 0" xyz="0 0 0"/>
      <geometry>
        <box size="1 0.05 1"/>
      </geometry>
    </visual>
    <collision>
      <origin rpy="0 0 0" xyz="0 0 0"/>
      <geometry>
        <box size="1 0.05 1"/>
      </geometry>
    </collision>
    <inertial>
      <mass value="1000"/>
      <inertia ixx="1.0" ixy="0.0" ixz="0.0" iyy="1.0" iyz="0.0" izz="1.0"/>
    </inertial>
  </link>
  <gazebo reference="w43_link">
    <static>true</static>
    <material>Gazebo/White</material>
  </gazebo>
  <joint name="w44_joint" type="fixed">
    <origin rpy="0 0 0" xyz="5.5 4 0.5"/>
    <parent link="maze_link"/>
    <child link="w44_link"/>
  </joint>
  <link name="w44_link">
    <visual>
      <origin rpy="0 0 0" xyz="0 0 0"/>
      <geometry>
        <box size="1 0.05 1"/>
      </geometry>
    </visual>
    <collision>
      <origin rpy="0 0 0" xyz="0 0 0"/>
      <geometry>
        <box size="1 0.05 1"/>
      </geometry>
    </collision>
    <inertial>
      <mass value="1000"/>
      <inertia ixx="1.0" ixy="0.0" ixz="0.0" iyy="1.0" iyz="0.0" izz="1.0"/>
    </inertial>
  </link>
  <gazebo reference="w44_link">
    <static>true</static>
    <material>Gazebo/White</material>
  </gazebo>
  <joint name="w45_joint" type="fixed">
    <origin rpy="0 0 0" xyz="7.5 4 0.5"/>
    <parent link="maze_link"/>
    <child link="w45_link"/>
  </joint>
  <link name="w45_link">
    <visual>
      <origin rpy="0 0 0" xyz="0 0 0"/>
      <geometry>
        <box size="1 0.05 1"/>
      </geometry>
    </visual>
    <collision>
      <origin rpy="0 0 0" xyz="0 0 0"/>
      <geometry>
        <box size="1 0.05 1"/>
      </geometry>
    </collision>
    <inertial>
      <mass value="1000"/>
      <inertia ixx="1.0" ixy="0.0" ixz="0.0" iyy="1.0" iyz="0.0" izz="1.0"/>
    </inertial>
  </link>
  <gazebo reference="w45_link">
    <static>true</static>
    <material>Gazebo/White</material>
  </gazebo>
  <joint name="w46_joint" type="fixed">
    <origin rpy="0 0 0" xyz="1.5 5 0.5"/>
    <parent link="maze_link"/>
    <child link="w46_link"/>
  </joint>
  <link name="w46_link">
    <visual>
      <origin rpy="0 0 0" xyz="0 0 0"/>
      <geometry>
        <box size="1 0.05 1"/>
      </geometry>
    </visual>
    <collision>
      <origin rpy="0 0 0" xyz="0 0 0"/>
      <geometry>
        <box size="1 0.05 1"/>
      </geometry>
    </collision>
    <inertial>
      <mass value="1000"/>
      <inertia ixx="1.0" ixy="0.0" ixz="0.0" iyy="1.0" iyz="0.0" izz="1.0"/>
    </inertial>
  </link>
  <gazebo reference="w46_link">
    <static>true</static>
    <material>Gazebo/White</material>
  </gazebo>
  <joint name="w47_joint" type="fixed">
    <origin rpy="0 0 0" xyz="4.5 5 0.5"/>
    <parent link="maze_link"/>
    <child link="w47_link"/>
  </joint>
  <link name="w47_link">
    <visual>
      <origin rpy="0 0 0" xyz="0 0 0"/>
      <geometry>
        <box size="1 0.05 1"/>
      </geometry>
    </visual>
    <collision>
      <origin rpy="0 0 0" xyz="0 0 0"/>
      <geometry>
        <box size="1 0.05 1"/>
      </geometry>
    </collision>
    <inertial>
      <mass value="1000"/>
      <inertia ixx="1.0" ixy="0.0" ixz="0.0" iyy="1.0" iyz="0.0" izz="1.0"/>
    </inertial>
  </link>
  <gazebo reference="w47_link">
    <static>true</static>
    <material>Gazebo/White</material>
  </gazebo>
  <joint name="w48_joint" type="fixed">
    <origin rpy="0 0 0" xyz="6.5 5 0.5"/>
    <parent link="maze_link"/>
    <child link="w48_link"/>
  </joint>
  <link name="w48_link">
    <visual>
      <origin rpy="0 0 0" xyz="0 0 0"/>
      <geometry>
        <box size="1 0.05 1"/>
      </geometry>
    </visual>
    <collision>
      <origin rpy="0 0 0" xyz="0 0 0"/>
      <geometry>
        <box size="1 0.05 1"/>
      </geometry>
    </collision>
    <inertial>
      <mass value="1000"/>
      <inertia ixx="1.0" ixy="0.0" ixz="0.0" iyy="1.0" iyz="0.0" izz="1.0"/>
    </inertial>
  </link>
  <gazebo reference="w48_link">
    <static>true</static>
    <material>Gazebo/White</material>
  </gazebo>
  <joint name="w49_joint" type="fixed">
    <origin rpy="0 0 0" xyz="2.5 6 0.5"/>
    <parent link="maze_link"/>
    <child link="w49_link"/>
  </joint>
  <link name="w49_link">
    <visual>
      <origin rpy="0 0 0" xyz="0 0 0"/>
      <geometry>
        <box size="1 0.05 1"/>
      </geometry>
    </visual>
    <collision>
      <origin rpy="0 0 0" xyz="0 0 0"/>
      <geometry>
        <box size="1 0.05 1"/>
      </geometry>
    </collision>
    <inertial>
      <mass value="1000"/>
      <inertia ixx="1.0" ixy="0.0" ixz="0.0" iyy="1.0" iyz="0.0" izz="1.0"/>
    </inertial>
  </link>
  <gazebo reference="w49_link">
    <static>true</static>
    <material>Gazebo/White</material>
  </gazebo>
  <joint name="w50_joint" type="fixed">
    <origin rpy="0 0 0" xyz="4.5 6 0.5"/>
    <parent link="maze_link"/>
    <child link="w50_link"/>
  </joint>
  <link name="w50_link">
    <visual>
      <origin rpy="0 0 0" xyz="0 0 0"/>
      <geometry>
        <box size="1 0.05 1"/>
      </geometry>
    </visual>
    <collision>
      <origin rpy="0 0 0" xyz="0 0 0"/>
      <geometry>
        <box size="1 0.05 1"/>
      </geometry>
    </collision>
    <inertial>
      <mass value="1000"/>
      <inertia ixx="1.0" ixy="0.0" ixz="0.0" iyy="1.0" iyz="0.0" izz="1.0"/>
    </inertial>
  </link>
  <gazebo reference="w50_link">
    <static>true</static>
    <material>Gazebo/White</material>
  </gazebo>
  <joint name="w51_joint" type="fixed">
    <origin rpy="0 0 0" xyz="6.5 6 0.5"/>
    <parent link="maze_link"/>
    <child link="w51_link"/>
  </joint>
  <link name="w51_link">
    <visual>
      <origin rpy="0 0 0" xyz="0 0 0"/>
      <geometry>
        <box size="1 0.05 1"/>
      </geometry>
    </visual>
    <collision>
      <origin rpy="0 0 0" xyz="0 0 0"/>
      <geometry>
        <box size="1 0.05 1"/>
      </geometry>
    </collision>
    <inertial>
      <mass value="1000"/>
      <inertia ixx="1.0" ixy="0.0" ixz="0.0" iyy="1.0" iyz="0.0" izz="1.0"/>
    </inertial>
  </link>
  <gazebo reference="w51_link">
    <static>true</static>
    <material>Gazebo/White</material>
  </gazebo>
  <joint name="w52_joint" type="fixed">
    <origin rpy="0 0 0" xyz="3.5 7 0.5"/>
    <parent link="maze_link"/>
    <child link="w52_link"/>
  </joint>
  <link name="w52_link">
    <visual>
      <origin rpy="0 0 0" xyz="0 0 0"/>
      <geometry>
        <box size="1 0.05 1"/>
      </geometry>
    </visual>
    <collision>
      <origin rpy="0 0 0" xyz="0 0 0"/>
      <geometry>
        <box size="1 0.05 1"/>
      </geometry>
    </collision>
    <inertial>
      <mass value="1000"/>
      <inertia ixx="1.0" ixy="0.0" ixz="0.0" iyy="1.0" iyz="0.0" izz="1.0"/>
    </inertial>
  </link>
  <gazebo reference="w52_link">
    <static>true</static>
    <material>Gazebo/White</material>
  </gazebo>
  <joint name="w53_joint" type="fixed">
    <origin rpy="0 0 0" xyz="5.5 7 0.5"/>
    <parent link="maze_link"/>
    <child link="w53_link"/>
  </joint>
  <link name="w53_link">
    <visual>
      <origin rpy="0 0 0" xyz="0 0 0"/>
      <geometry>
        <box size="1 0.05 1"/>
      </geometry>
    </visual>
    <collision>
      <origin rpy="0 0 0" xyz="0 0 0"/>
      <geometry>
        <box size="1 0.05 1"/>
      </geometry>
    </collision>
    <inertial>
      <mass value="1000"/>
      <inertia ixx="1.0" ixy="0.0" ixz="0.0" iyy="1.0" iyz="0.0" izz="1.0"/>
    </inertial>
  </link>
  <gazebo reference="w53_link">
    <static>true</static>
    <material>Gazebo/White</material>
  </gazebo>
  <joint name="w54_joint" type="fixed">
    <origin rpy="0 0 0" xyz="8 7 0.5"/>
    <parent link="maze_link"/>
    <child link="w54_link"/>
  </joint>
  <link name="w54_link">
    <visual>
      <origin rpy="0 0 0" xyz="0 0 0"/>
      <geometry>
        <box size="2 0.05 1"/>
      </geometry>
    </visual>
    <collision>
      <origin rpy="0 0 0" xyz="0 0 0"/>
      <geometry>
        <box size="2 0.05 1"/>
      </geometry>
    </collision>
    <inertial>
      <mass value="1000"/>
      <inertia ixx="1.0" ixy="0.0" ixz="0.0" iyy="1.0" iyz="0.0" izz="1.0"/>
    </inertial>
  </link>
  <gazebo reference="w54_link">
    <static>true</static>
    <material>Gazebo/White</material>
  </gazebo>
  <joint name="w55_joint" type="fixed">
    <origin rpy="0 0 0" xyz="1.5 8 0.5"/>
    <parent link="maze_link"/>
    <child link="w55_link"/>
  </joint>
  <link name="w55_link">
    <visual>
      <origin rpy="0 0 0" xyz="0 0 0"/>
      <geometry>
        <box size="1 0.05 1"/>
      </geometry>
    </visual>
    <collision>
      <origin rpy="0 0 0" xyz="0 0 0"/>
      <geometry>
        <box size="1 0.05 1"/>
      </geometry>
    </collision>
    <inertial>
      <mass value="1000"/>
      <inertia ixx="1.0" ixy="0.0" ixz="0.0" iyy="1.0" iyz="0.0" izz="1.0"/>
    </inertial>
  </link>
  <gazebo reference="w55_link">
    <static>true</static>
    <material>Gazebo/White</material>
  </gazebo>
  <joint name="w56_joint" type="fixed">
    <origin rpy="0 0 0" xyz="4 8 0.5"/>
    <parent link="maze_link"/>
    <child link="w56_link"/>
  </joint>
  <link name="w56_link">
    <visual>
      <origin rpy="0 0 0" xyz="0 0 0"/>
      <geometry>
        <box size="2 0.05 1"/>
      </geometry>
    </visual>
    <collision>
      <origin rpy="0 0 0" xyz="0 0 0"/>
      <geometry>
        <box size="2 0.05 1"/>
      </geometry>
    </collision>
    <inertial>
      <mass value="1000"/>
      <inertia ixx="1.0" ixy="0.0" ixz="0.0" iyy="1.0" iyz="0.0" izz="1.0"/>
    </inertial>
  </link>
  <gazebo reference="w56_link">
    <static>true</static>
    <material>Gazebo/White</material>
  </gazebo>
  <joint name="w57_joint" type="fixed">
    <origin rpy="0 0 0" xyz="7 8 0.5"/>
    <parent link="maze_link"/>
    <child link="w57_link"/>
  </joint>
  <link name="w57_link">
    <visual>
      <origin rpy="0 0 0" xyz="0 0 0"/>
      <geometry>
        <box size="2 0.05 1"/>
      </geometry>
    </visual>
    <collision>
      <origin rpy="0 0 0" xyz="0 0 0"/>
      <geometry>
        <box size="2 0.05 1"/>
      </geometry>
    </collision>
    <inertial>
      <mass value="1000"/>
      <inertia ixx="1.0" ixy="0.0" ixz="0.0" iyy="1.0" iyz="0.0" izz="1.0"/>
    </inertial>
  </link>
  <gazebo reference="w57_link">
    <static>true</static>
    <material>Gazebo/White</material>
  </gazebo>
  <joint name="w58_joint" type="fixed">
    <origin rpy="0 0 0" xyz="1.5 9 0.5"/>
    <parent link="maze_link"/>
    <child link="w58_link"/>
  </joint>
  <link name="w58_link">
    <visual>
      <origin rpy="0 0 0" xyz="0 0 0"/>
      <geometry>
        <box size="1 0.05 1"/>
      </geometry>
    </visual>
    <collision>
      <origin rpy="0 0 0" xyz="0 0 0"/>
      <geometry>
        <box size="1 0.05 1"/>
      </geometry>
    </collision>
    <inertial>
      <mass value="1000"/>
      <inertia ixx="1.0" ixy="0.0" ixz="0.0" iyy="1.0" iyz="0.0" izz="1.0"/>
    </inertial>
  </link>
  <gazebo reference="w58_link">
    <static>true</static>
    <material>Gazebo/White</material>
  </gazebo>
  <joint name="w59_joint" type="fixed">
    <origin rpy="0 0 0" xyz="4.5 9 0.5"/>
    <parent link="maze_link"/>
    <child link="w59_link"/>
  </joint>
  <link name="w59_link">
    <visual>
      <origin rpy="0 0 0" xyz="0 0 0"/>
      <geometry>
        <box size="3 0.05 1"/>
      </geometry>
    </visual>
    <collision>
      <origin rpy="0 0 0" xyz="0 0 0"/>
      <geometry>
        <box size="3 0.05 1"/>
      </geometry>
    </collision>
    <inertial>
      <mass value="1000"/>
      <inertia ixx="1.0" ixy="0.0" ixz="0.0" iyy="1.0" iyz="0.0" izz="1.0"/>
    </inertial>
  </link>
  <gazebo reference="w59_link">
    <static>true</static>
    <material>Gazebo/White</material>
  </gazebo>
  <joint name="w60_joint" type="fixed">
    <origin rpy="0 0 0" xyz="2.5 10 0.5"/>
    <parent link="maze_link"/>
    <child link="w60_link"/>
  </joint>
  <link name="w60_link">
    <visual>
      <origin rpy="0 0 0" xyz="0 0 0"/>
      <geometry>
        <box size="1 0.05 1"/>
      </geometry>
    </visual>
    <collision>
      <origin rpy="0 0 0" xyz="0 0 0"/>
      <geometry>
        <box size="1 0.05 1"/>
      </geometry>
    </collision>
    <inertial>
      <mass value="1000"/>
      <inertia ixx="1.0" ixy="0.0" ixz="0.0" iyy="1.0" iyz="0.0" izz="1.0"/>
    </inertial>
  </link>
  <gazebo reference="w60_link">
    <static>true</static>
    <material>Gazebo/White</material>
  </gazebo>
  <joint name="w61_joint" type="fixed">
    <origin rpy="0 0 0" xyz="4.5 10 0.5"/>
    <parent link="maze_link"/>
    <child link="w61_link"/>
  </joint>
  <link name="w61_link">
    <visual>
      <origin rpy="0 0 0" xyz="0 0 0"/>
      <geometry>
        <box size="1 0.05 1"/>
      </geometry>
    </visual>
    <collision>
      <origin rpy="0 0 0" xyz="0 0 0"/>
      <geometry>
        <box size="1 0.05 1"/>
      </geometry>
    </collision>
    <inertial>
      <mass value="1000"/>
      <inertia ixx="1.0" ixy="0.0" ixz="0.0" iyy="1.0" iyz="0.0" izz="1.0"/>
    </inertial>
  </link>
  <gazebo reference="w61_link">
    <static>true</static>
    <material>Gazebo/White</material>
  </gazebo>
  <joint name="w62_joint" type="fixed">
    <origin rpy="0 0 0" xyz="6.5 10 0.5"/>
    <parent link="maze_link"/>
    <child link="w62_link"/>
  </joint>
  <link name="w62_link">
    <visual>
      <origin rpy="0 0 0" xyz="0 0 0"/>
      <geometry>
        <box size="1 0.05 1"/>
      </geometry>
    </visual>
    <collision>
      <origin rpy="0 0 0" xyz="0 0 0"/>
      <geometry>
        <box size="1 0.05 1"/>
      </geometry>
    </collision>
    <inertial>
      <mass value="1000"/>
      <inertia ixx="1.0" ixy="0.0" ixz="0.0" iyy="1.0" iyz="0.0" izz="1.0"/>
    </inertial>
  </link>
  <gazebo reference="w62_link">
    <static>true</static>
    <material>Gazebo/White</material>
  </gazebo>
  <joint name="w63_joint" type="fixed">
    <origin rpy="0 0 0" xyz="0.5 11 0.5"/>
    <parent link="maze_link"/>
    <child link="w63_link"/>
  </joint>
  <link name="w63_link">
    <visual>
      <origin rpy="0 0 0" xyz="0 0 0"/>
      <geometry>
        <box size="1 0.05 1"/>
      </geometry>
    </visual>
    <collision>
      <origin rpy="0 0 0" xyz="0 0 0"/>
      <geometry>
        <box size="1 0.05 1"/>
      </geometry>
    </collision>
    <inertial>
      <mass value="1000"/>
      <inertia ixx="1.0" ixy="0.0" ixz="0.0" iyy="1.0" iyz="0.0" izz="1.0"/>
    </inertial>
  </link>
  <gazebo reference="w63_link">
    <static>true</static>
    <material>Gazebo/White</material>
  </gazebo>
  <joint name="w64_joint" type="fixed">
    <origin rpy="0 0 0" xyz="2.5 11 0.5"/>
    <parent link="maze_link"/>
    <child link="w64_link"/>
  </joint>
  <link name="w64_link">
    <visual>
      <origin rpy="0 0 0" xyz="0 0 0"/>
      <geometry>
        <box size="1 0.05 1"/>
      </geometry>
    </visual>
    <collision>
      <origin rpy="0 0 0" xyz="0 0 0"/>
      <geometry>
        <box size="1 0.05 1"/>
      </geometry>
    </collision>
    <inertial>
      <mass value="1000"/>
      <inertia ixx="1.0" ixy="0.0" ixz="0.0" iyy="1.0" iyz="0.0" izz="1.0"/>
    </inertial>
  </link>
  <gazebo reference="w64_link">
    <static>true</static>
    <material>Gazebo/White</material>
  </gazebo>
  <joint name="w65_joint" type="fixed">
    <origin rpy="0 0 0" xyz="5.5 11 0.5"/>
    <parent link="maze_link"/>
    <child link="w65_link"/>
  </joint>
  <link name="w65_link">
    <visual>
      <origin rpy="0 0 0" xyz="0 0 0"/>
      <geometry>
        <box size="1 0.05 1"/>
      </geometry>
    </visual>
    <collision>
      <origin rpy="0 0 0" xyz="0 0 0"/>
      <geometry>
        <box size="1 0.05 1"/>
      </geometry>
    </collision>
    <inertial>
      <mass value="1000"/>
      <inertia ixx="1.0" ixy="0.0" ixz="0.0" iyy="1.0" iyz="0.0" izz="1.0"/>
    </inertial>
  </link>
  <gazebo reference="w65_link">
    <static>true</static>
    <material>Gazebo/White</material>
  </gazebo>
  <joint name="w66_joint" type="fixed">
    <origin rpy="0 0 0" xyz="7.5 11 0.5"/>
    <parent link="maze_link"/>
    <child link="w66_link"/>
  </joint>
  <link name="w66_link">
    <visual>
      <origin rpy="0 0 0" xyz="0 0 0"/>
      <geometry>
        <box size="1 0.05 1"/>
      </geometry>
    </visual>
    <collision>
      <origin rpy="0 0 0" xyz="0 0 0"/>
      <geometry>
        <box size="1 0.05 1"/>
      </geometry>
    </collision>
    <inertial>
      <mass value="1000"/>
      <inertia ixx="1.0" ixy="0.0" ixz="0.0" iyy="1.0" iyz="0.0" izz="1.0"/>
    </inertial>
  </link>
  <gazebo reference="w66_link">
    <static>true</static>
    <material>Gazebo/White</material>
  </gazebo>
</robot>
